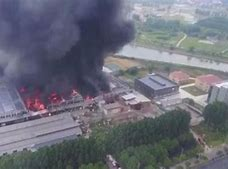smoke: (1, 1, 135, 95)
